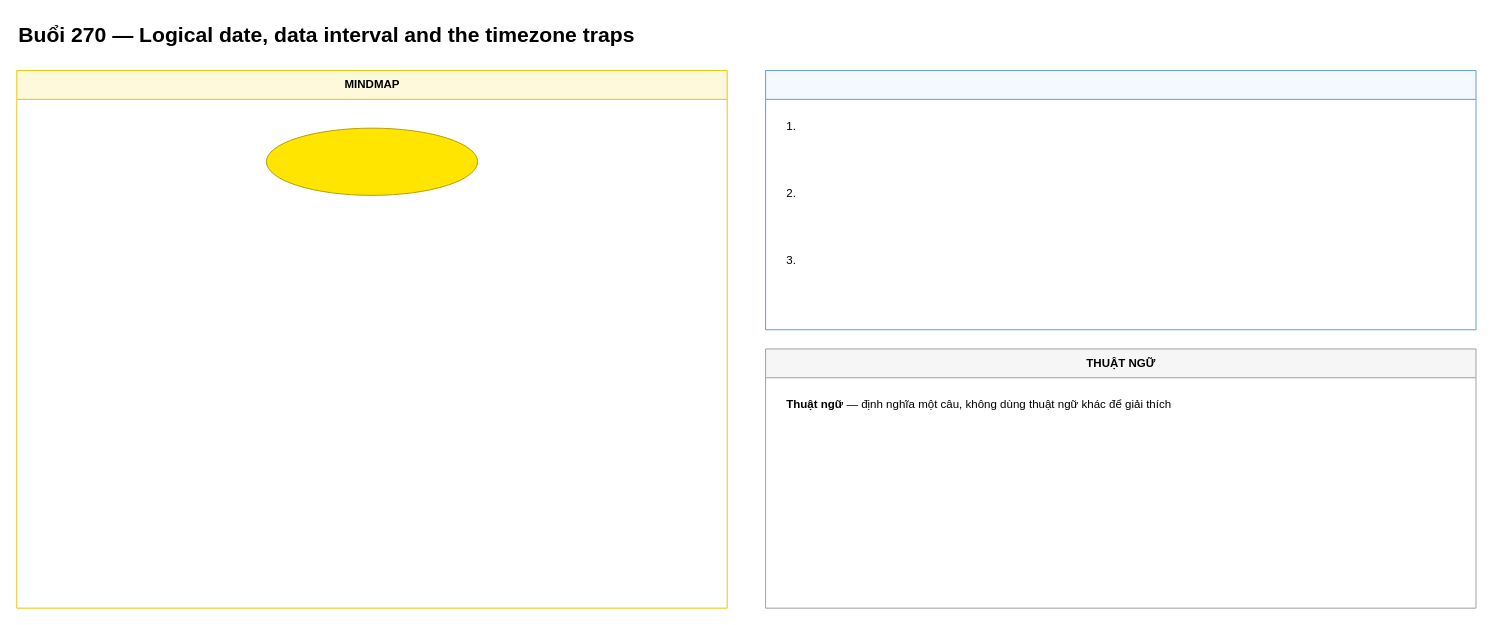
Some shapes in this 1493 by 625 pixel diagram are drawn without their labels. Here are the shapes that lost their labels. From the top down, the box of each, then its label:
(265, 127, 478, 195): Logical date, data interval and the timezone traps
(765, 70, 1476, 330): KEY TAKEAWAY — ba điều phải nhớ
